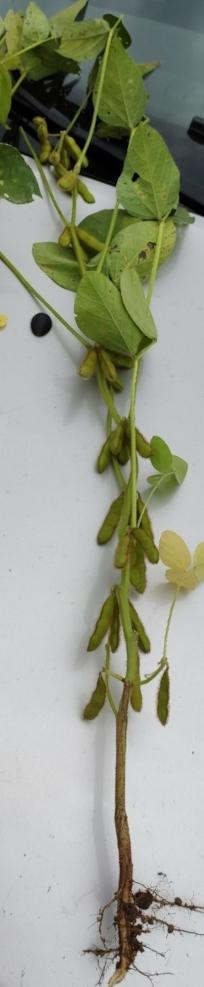soja: (83, 585, 114, 654), (122, 591, 157, 652), (96, 589, 129, 651), (95, 487, 125, 545), (131, 549, 159, 595), (77, 222, 113, 257), (154, 665, 172, 728), (137, 495, 160, 544), (132, 528, 162, 565), (109, 523, 131, 573), (106, 416, 132, 457), (128, 425, 158, 460), (68, 133, 96, 169), (82, 673, 104, 718), (98, 344, 124, 380), (123, 677, 148, 714), (72, 177, 98, 210), (97, 432, 114, 479), (115, 443, 139, 473), (27, 122, 51, 145), (80, 352, 98, 381), (106, 378, 134, 396), (52, 175, 70, 196), (33, 145, 52, 163), (59, 228, 74, 250)
